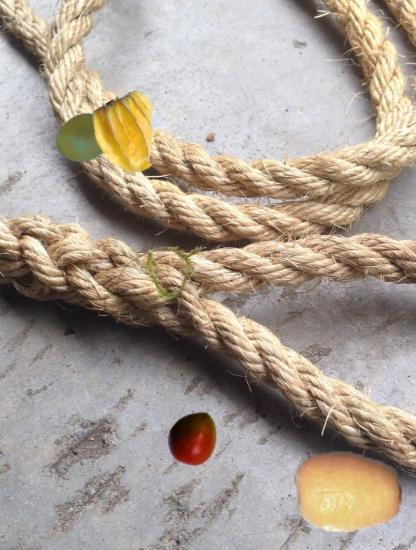Grape: (55, 110, 112, 167)
Kumquats: (294, 437, 403, 546)
Mango: (165, 409, 223, 467)
Physalis: (92, 95, 171, 174)
